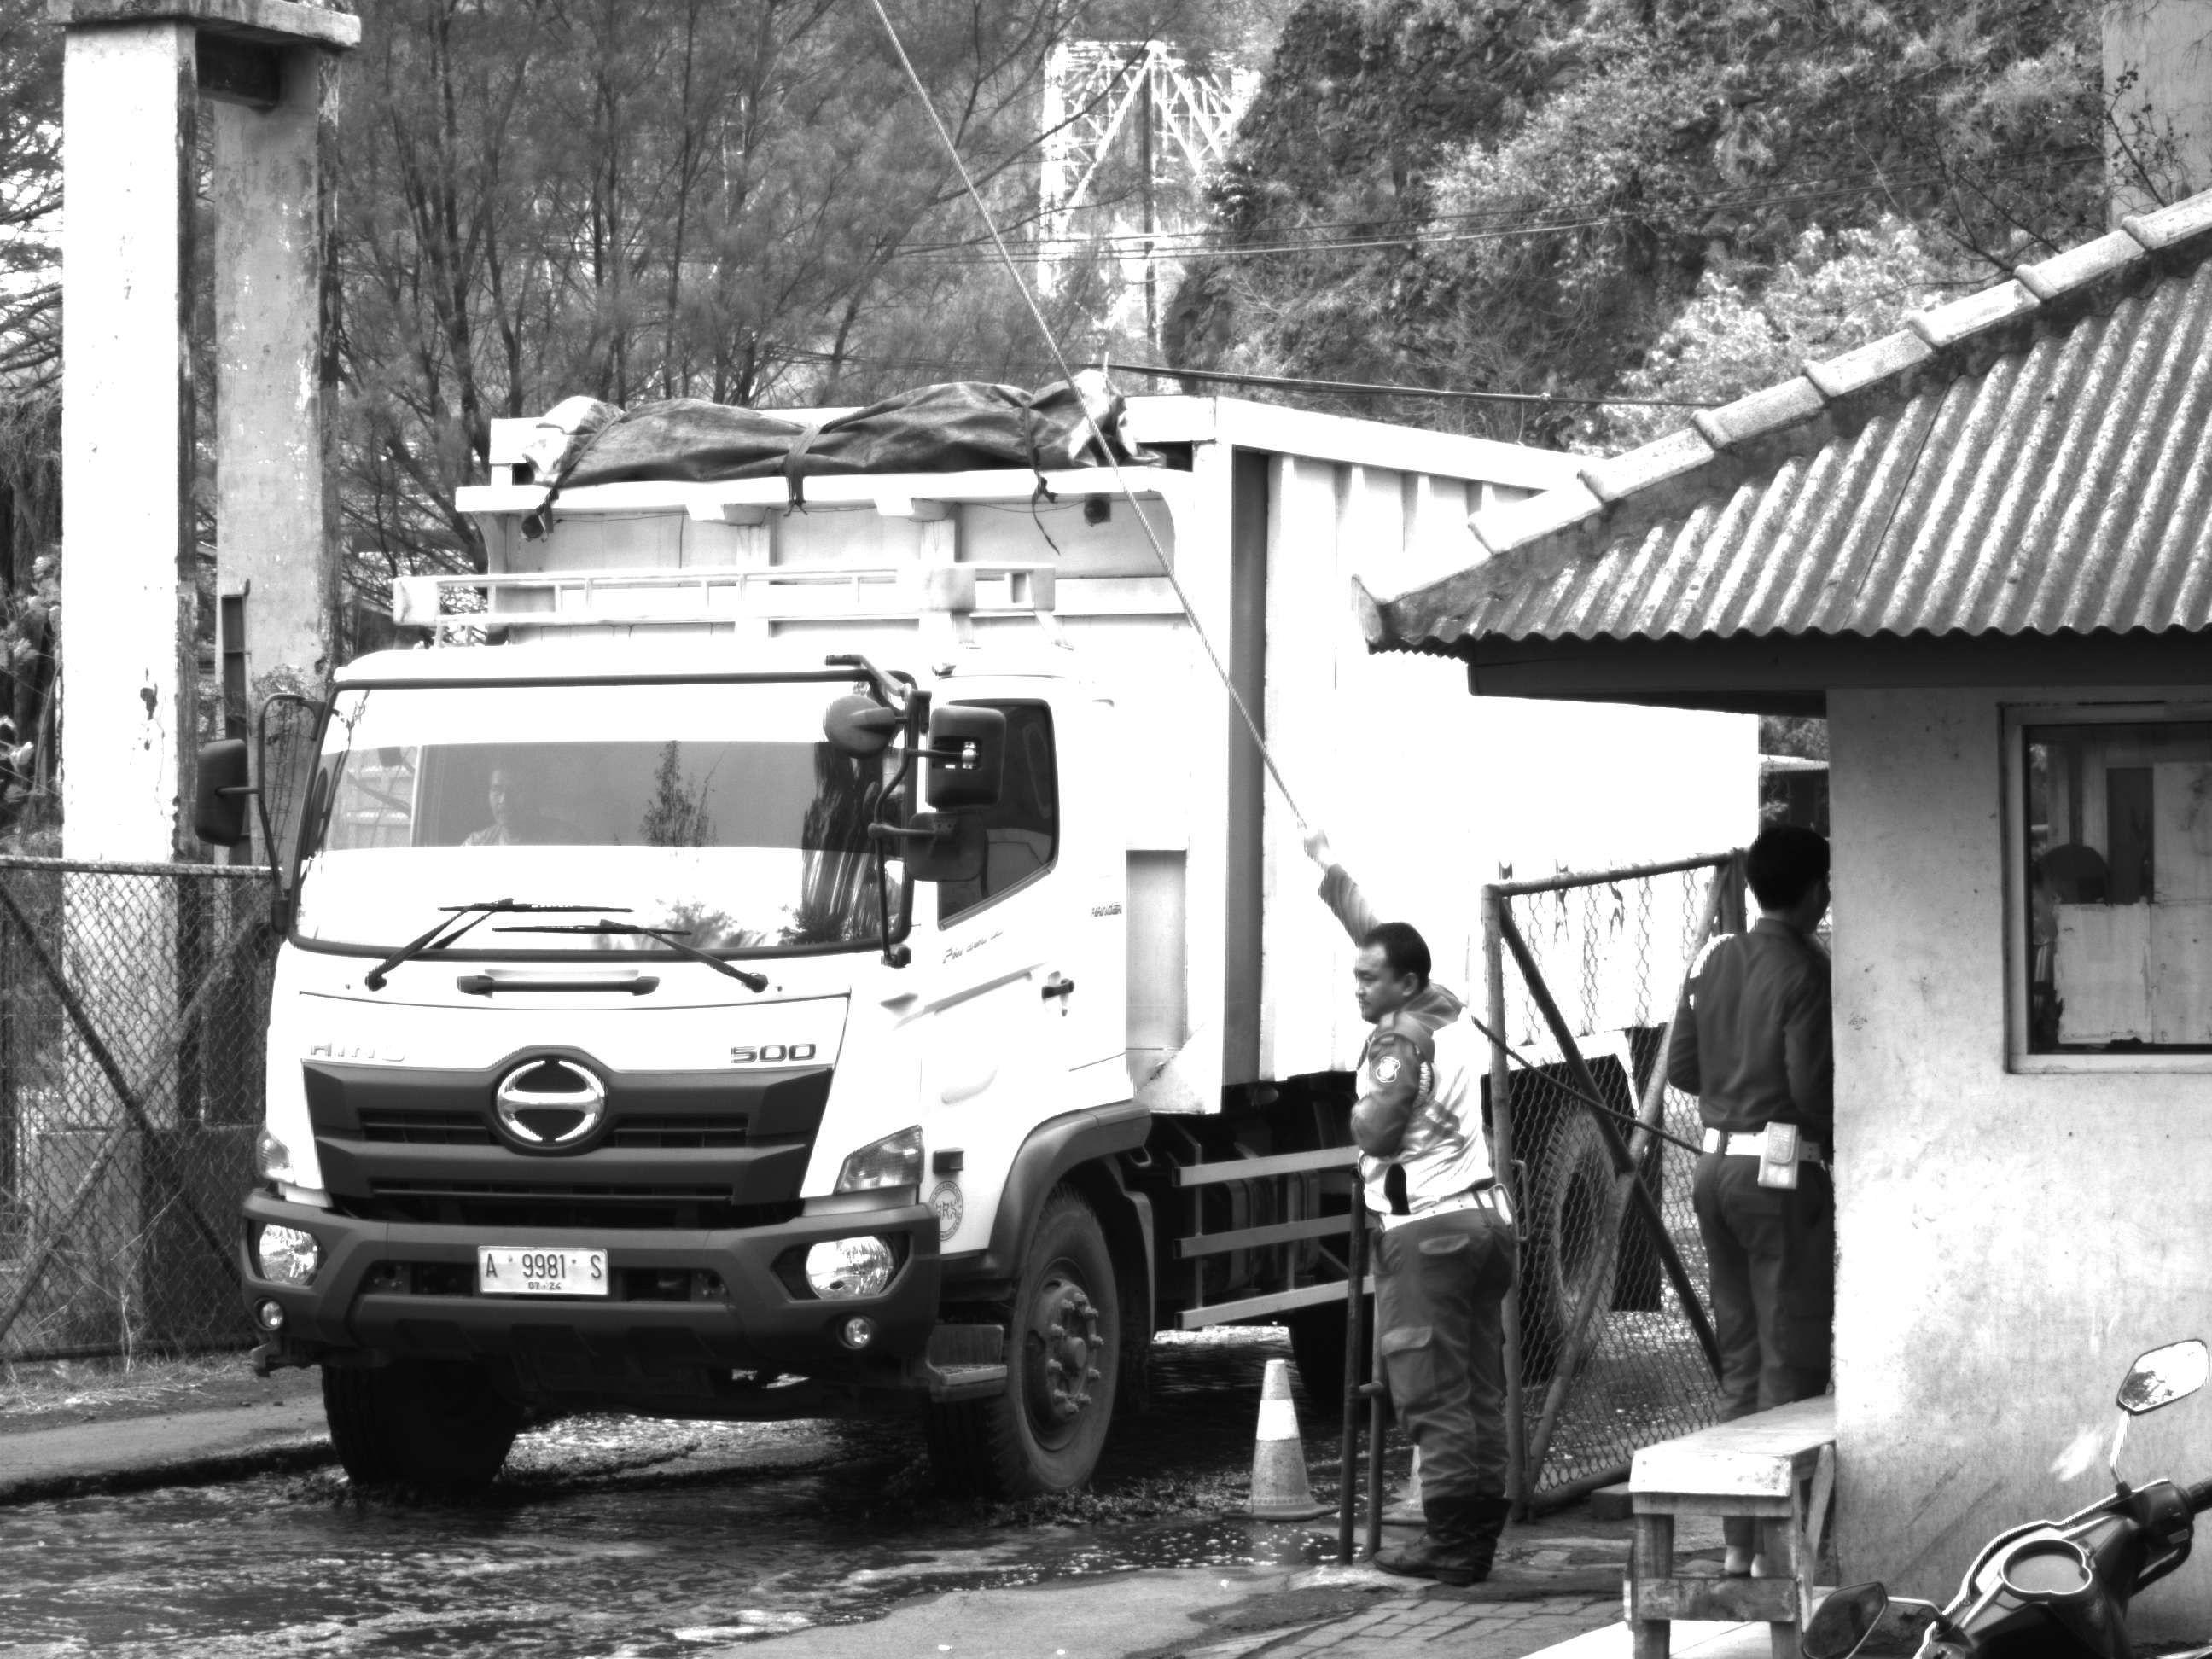day_truck_front: (239, 625, 1229, 1497)
plate: (472, 1239, 619, 1298)
